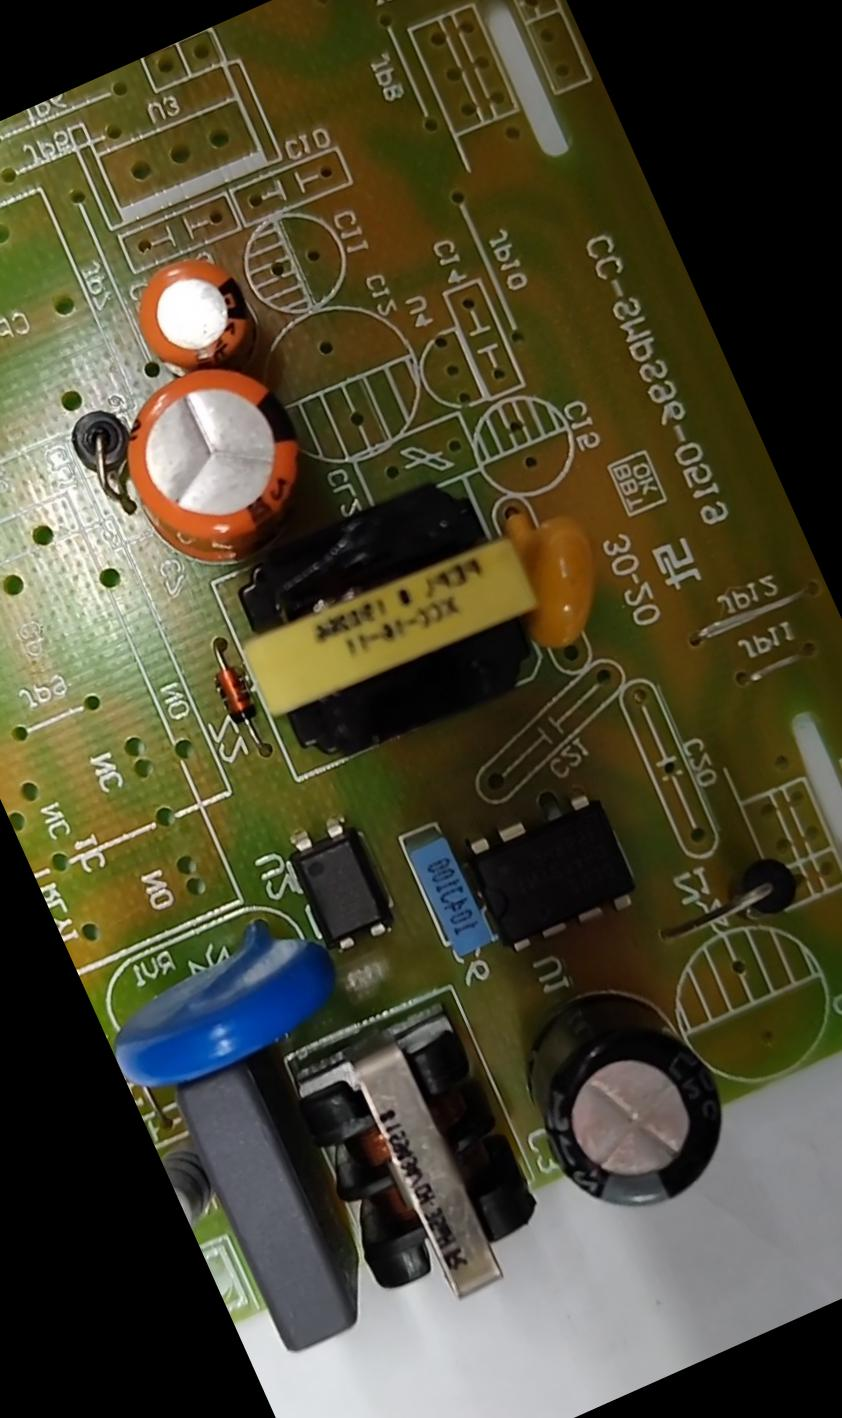Cap1: (101, 342, 332, 575)
Cap2: (118, 242, 260, 382)
Cap3: (503, 967, 747, 1242)
MOSFET: (462, 789, 641, 958)
Mov: (94, 917, 342, 1109)
Resistor: (159, 1139, 223, 1229)
Transformer: (204, 452, 567, 770), (284, 1005, 558, 1328)
